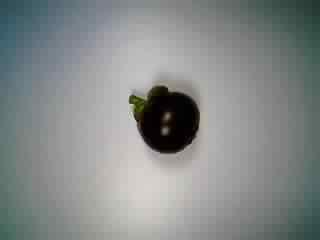mangosteen: (123, 80, 201, 153)
